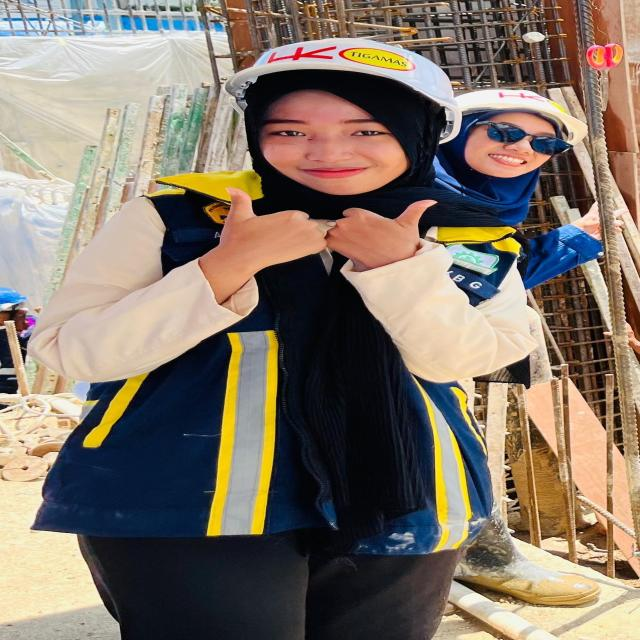safetyhelmet: (226, 32, 458, 143), (455, 80, 582, 150)
